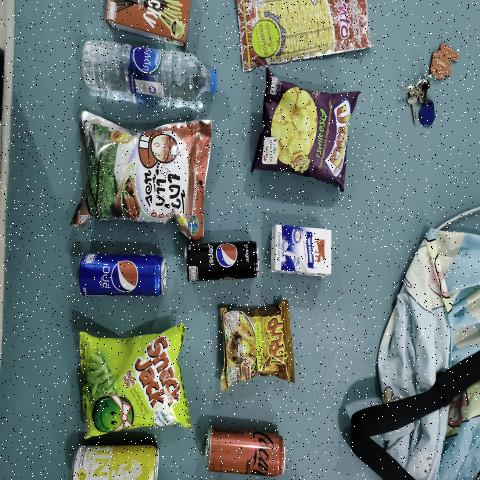coke_red: (207, 433, 286, 474)
crystal: (76, 36, 222, 107)
mama: (223, 313, 287, 384)
party_purple: (258, 81, 355, 186)
pepsi_black: (185, 241, 256, 284)
pepsi_blue: (80, 256, 166, 296)
snack_jack: (88, 326, 178, 435)
taokaenoi: (84, 124, 198, 227)
thai_denmark: (265, 222, 332, 284)
